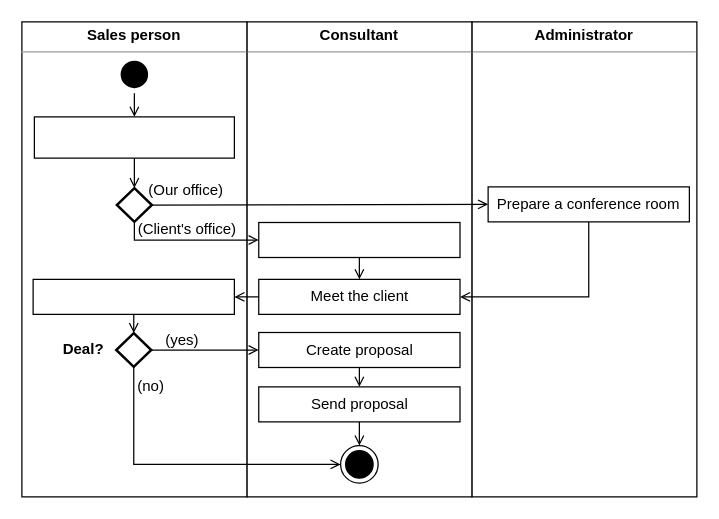
The diagram is 719 pixels wide and 519 high, and some of its shapes have lost their labels. Each missing label, with the box of its shape:
Prepare a laptop: (258, 221, 460, 258)
Send a follow-up letter: (32, 278, 234, 314)
set-up appointment with a client: (33, 116, 234, 158)
